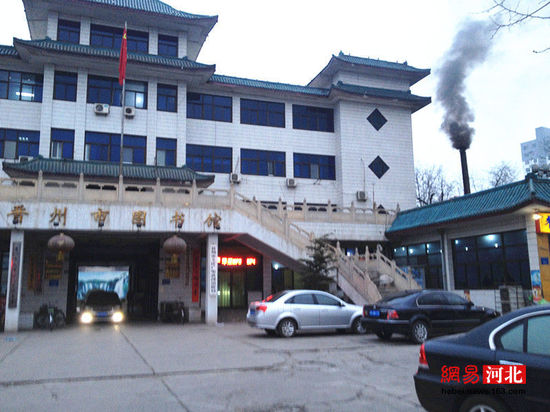dust: (426, 21, 503, 146)
